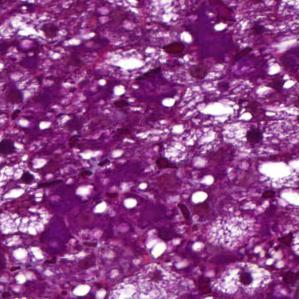ballooning: (216, 115, 295, 159)
